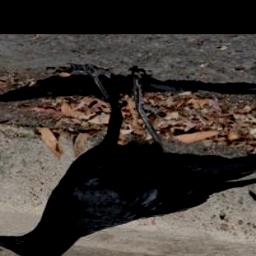Crow: (0, 67, 256, 256)
